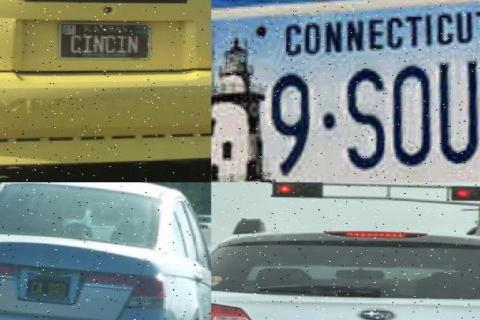LicensePlate: (211, 26, 480, 182), (50, 24, 144, 64), (18, 270, 71, 308)
